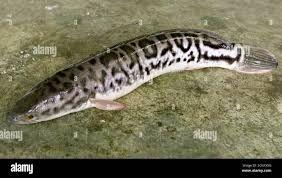Snakehead: (12, 19, 278, 134)
